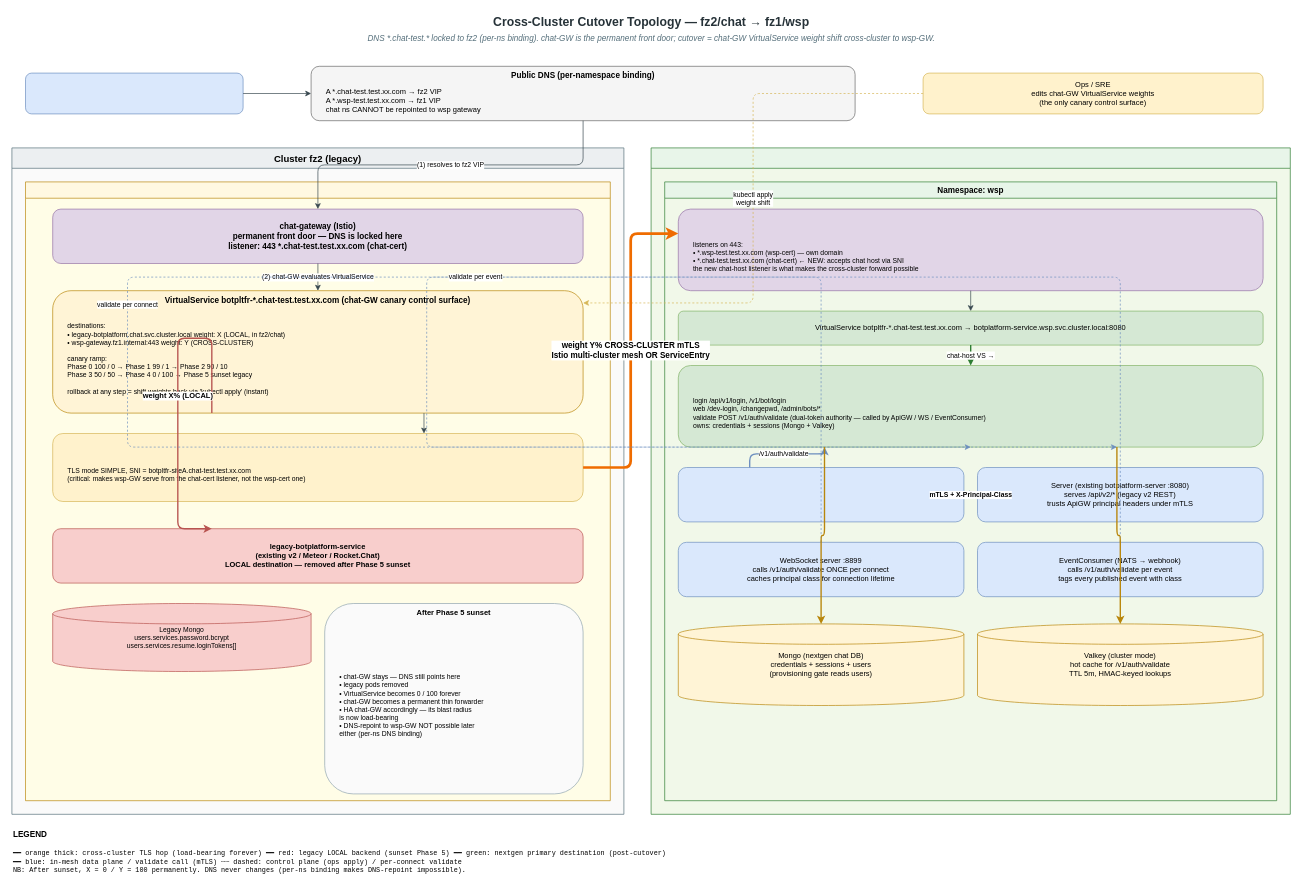
Some shapes in this 1302 by 890 pixel diagram are drawn without their labels. Each missing label, with the box of its shape:
ApiGW (existing) routes /api/v2/* → Server calls /v1/auth/validate: (678, 467, 964, 522)
Bot (SDK) dials botpltfr-siteA.chat-test.test.xx.com: (25, 72, 243, 114)
botplatform-service (NEW — we build): (678, 365, 1263, 447)
Cluster fz1 (nextgen): (650, 147, 1290, 814)
DestinationRule + ServiceEntry → wsp-gateway.fz1.internal: (52, 433, 583, 502)
Namespace: chat: (25, 181, 610, 801)
wsp-gateway (Istio): (678, 208, 1263, 291)
